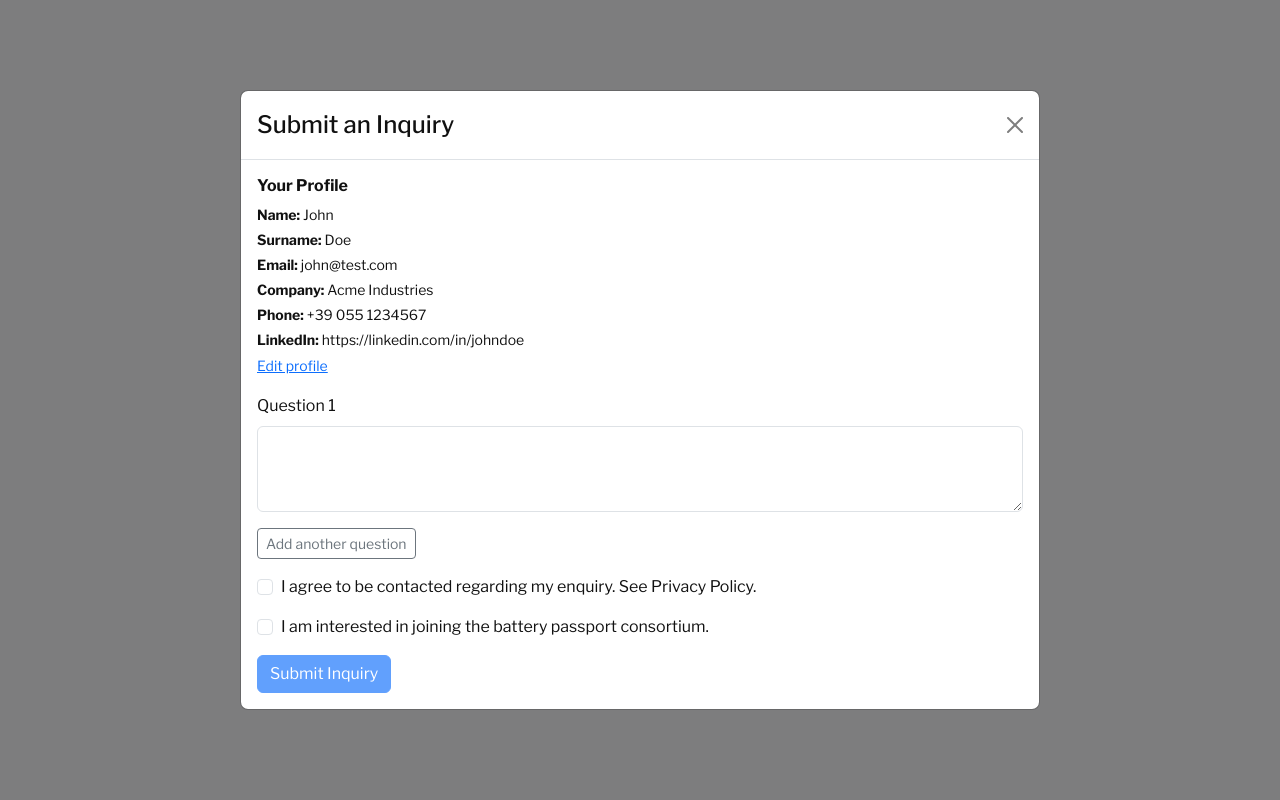
Scenario: ContactForm › shows error alert on submission failure
The width and height of the screenshot is (1280, 800).
Type "My question" into the text box labelled "Question 1" at (640, 469), box x1=257 y1=426 x2=1023 y2=512
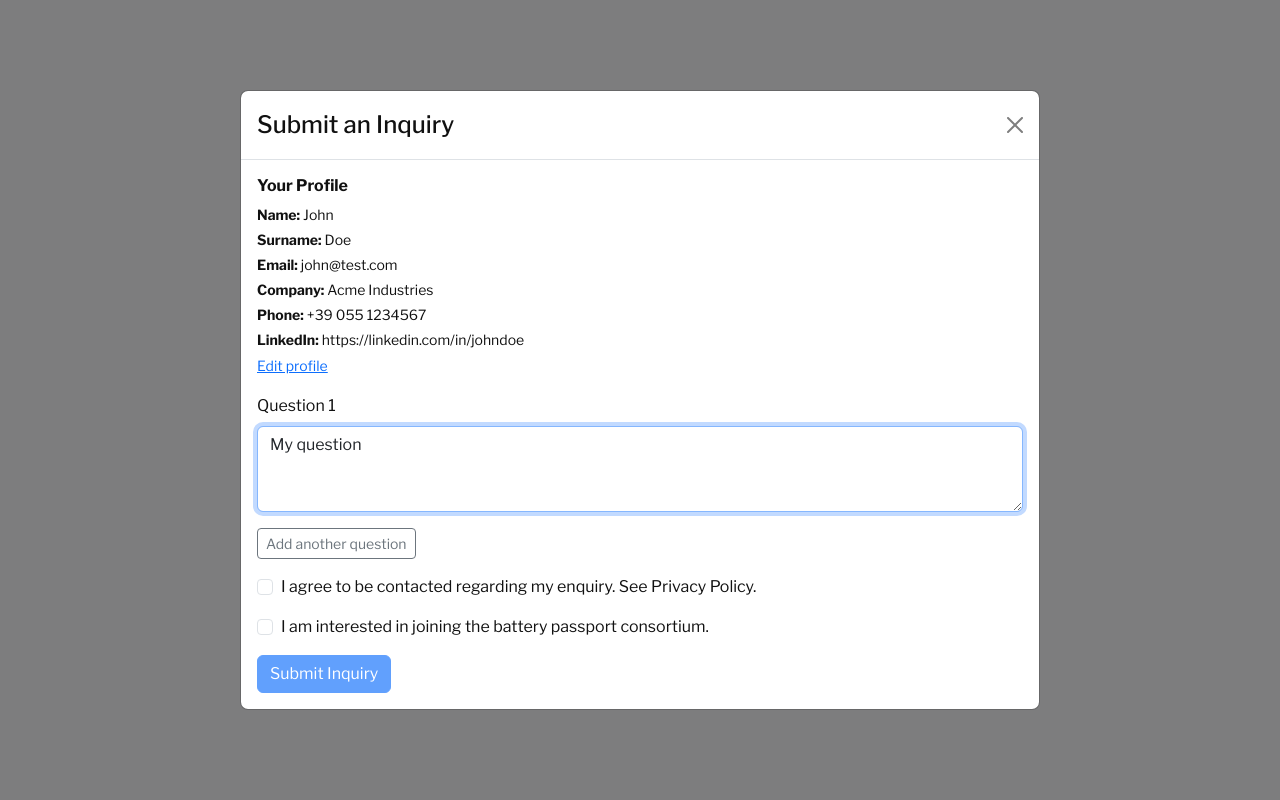
Click the checkbox labelled "agree to be contacted" at (265, 587), box x1=257 y1=579 x2=273 y2=595
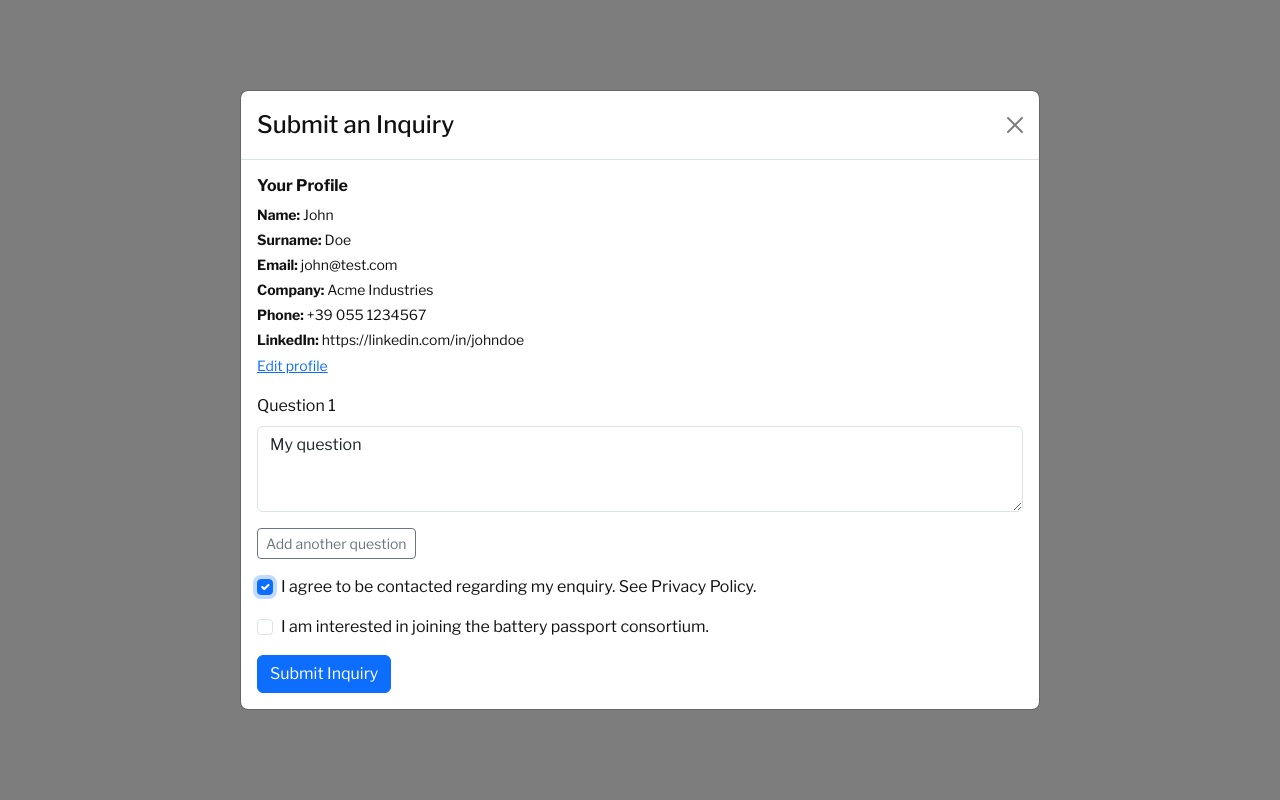
Click the button "Submit Inquiry" at (324, 674), box x1=257 y1=655 x2=391 y2=693
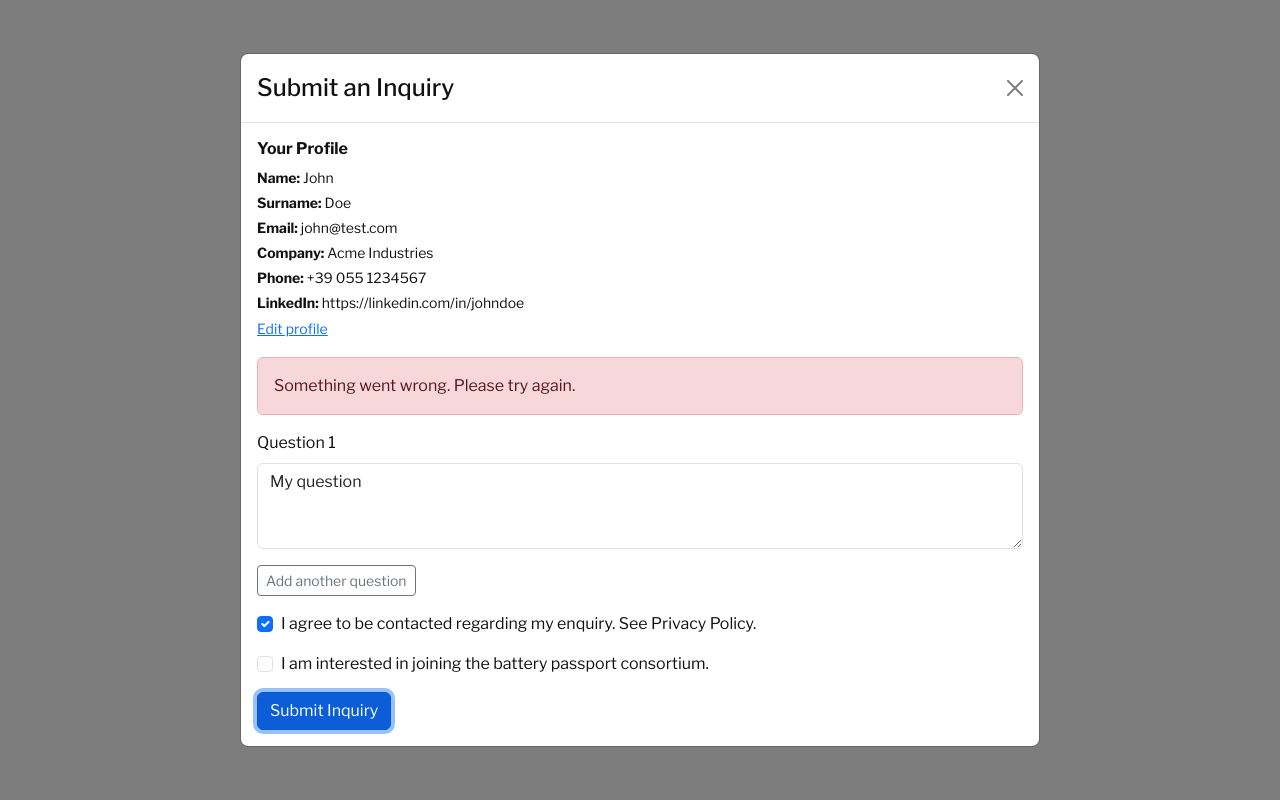
Now the text "Something went wrong. Please try again." is shown, box x1=257 y1=357 x2=1023 y2=415
